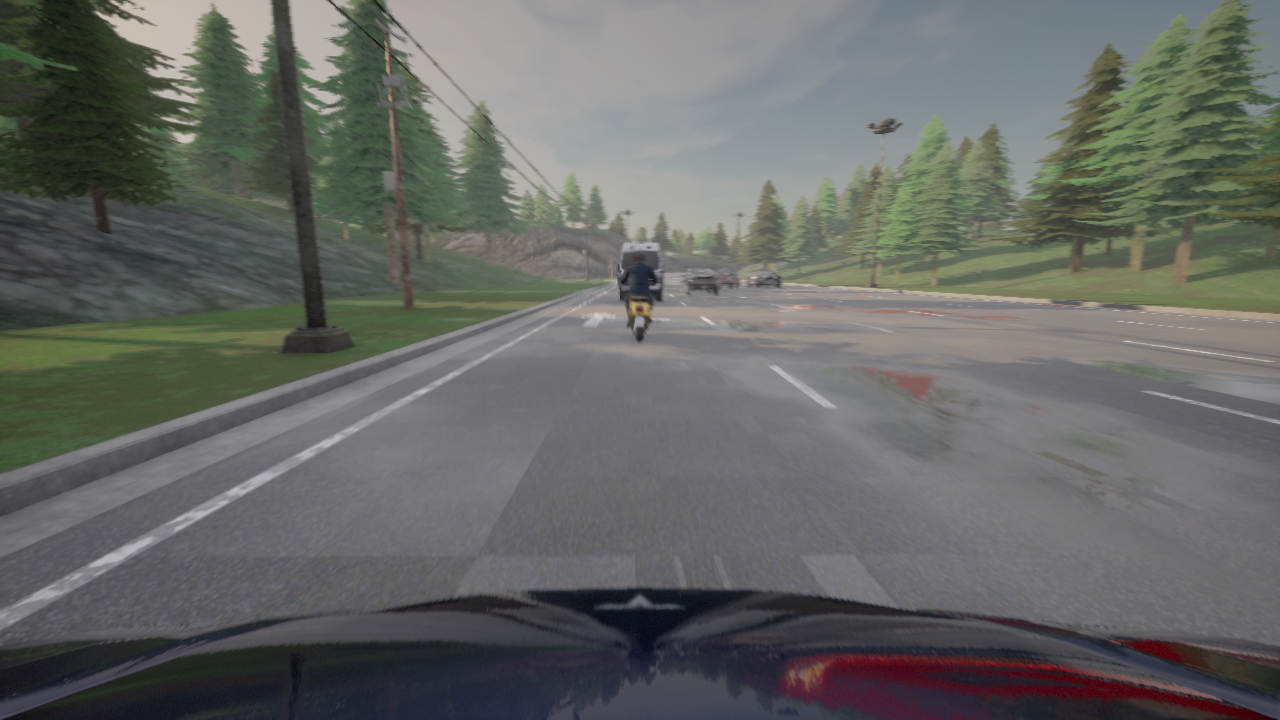cyclist: (0, 588, 1279, 719), (618, 272, 661, 341), (618, 241, 662, 299), (680, 268, 719, 294), (747, 269, 781, 287), (715, 268, 739, 288)
